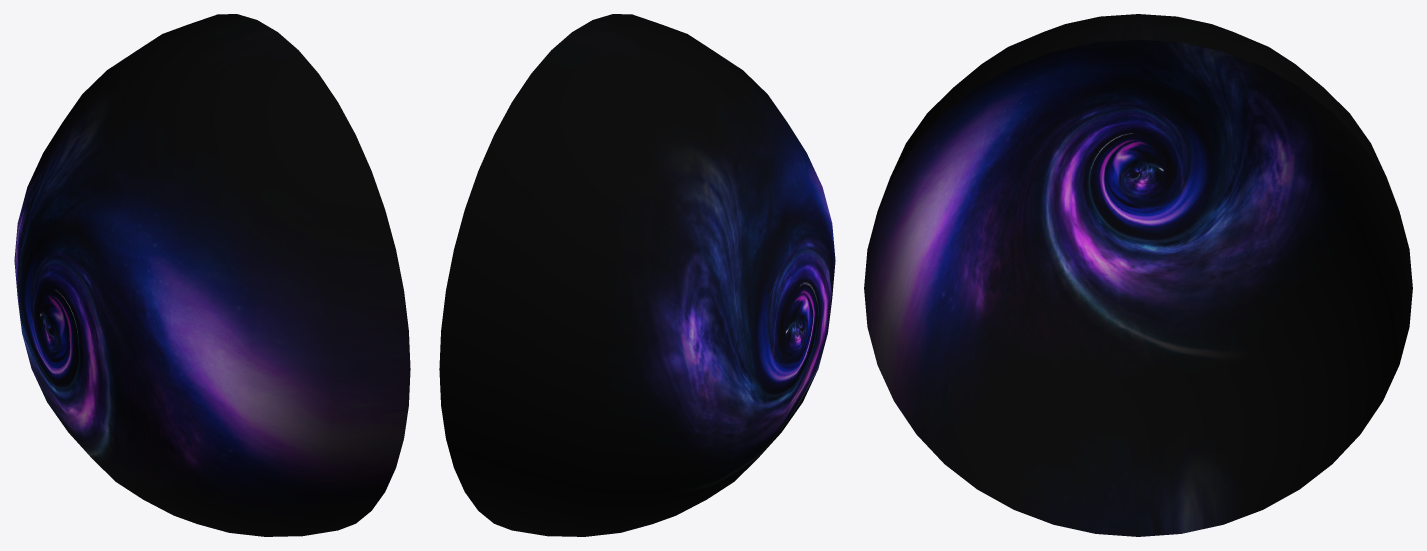
The model's file is galaxy_bg2.fbx.
The picture shows the model from 3 angles, left to right: view 1: azimuth 30°, elevation 25°; view 2: azimuth 150°, elevation 25°; view 3: azimuth 270°, elevation 25°; orthographic projection. The views are drawn at different scales.
Parts seen in each view (by area): view 1: pSphere1; view 2: pSphere1; view 3: pSphere1.
Boxes of the visible parts, bbox=[...] form: pSphere1: bbox=[14, 14, 410, 536]; pSphere1: bbox=[439, 14, 835, 536]; pSphere1: bbox=[864, 14, 1412, 536].
Bounding box in the file's own units: 1 × 2 × 2.
1 material, 1 textured.
